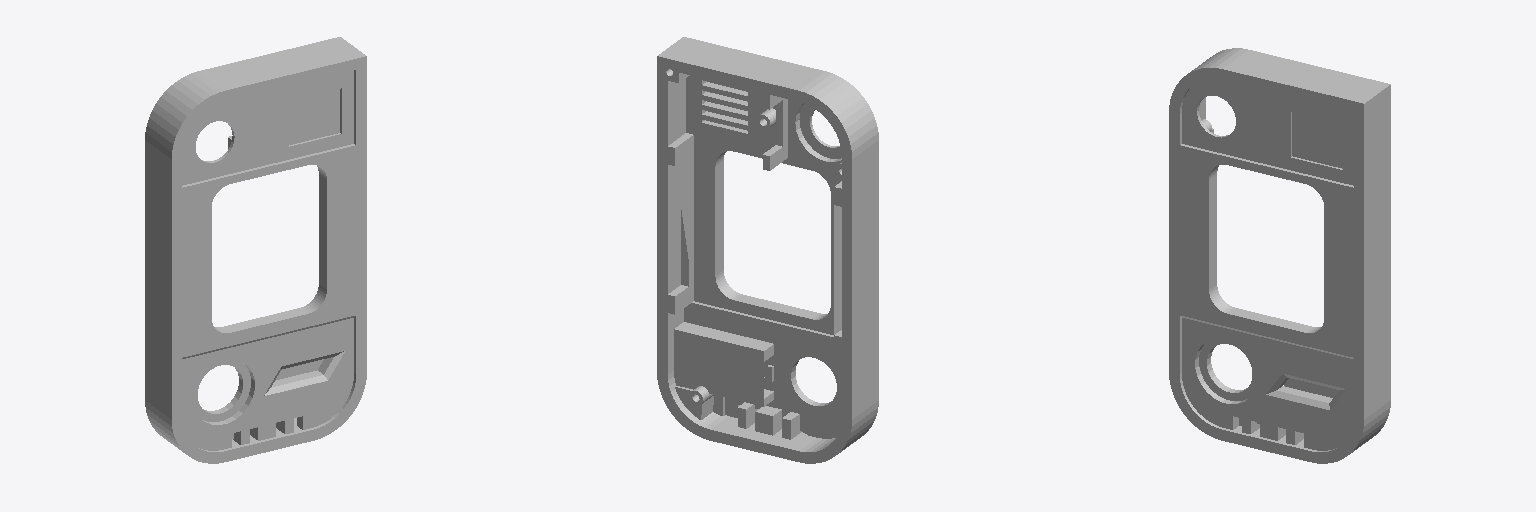
Rendered from Top Lid.obj.
The picture shows the model from 3 angles: view 1: azimuth 30°, elevation 25°; view 2: azimuth 150°, elevation 25°; view 3: azimuth 330°, elevation 25°; orthographic projection.
Visible parts, largest first — view 1: Mesh1 Group1 Model; view 2: Mesh1 Group1 Model; view 3: Mesh1 Group1 Model.
Boxes of the visible parts, box(x1,y1,x2,y2) form: Mesh1 Group1 Model: box(145, 37, 366, 463); Mesh1 Group1 Model: box(657, 37, 878, 463); Mesh1 Group1 Model: box(1169, 48, 1390, 463).
Bounding box in the file's own units: 55 × 100 × 13.